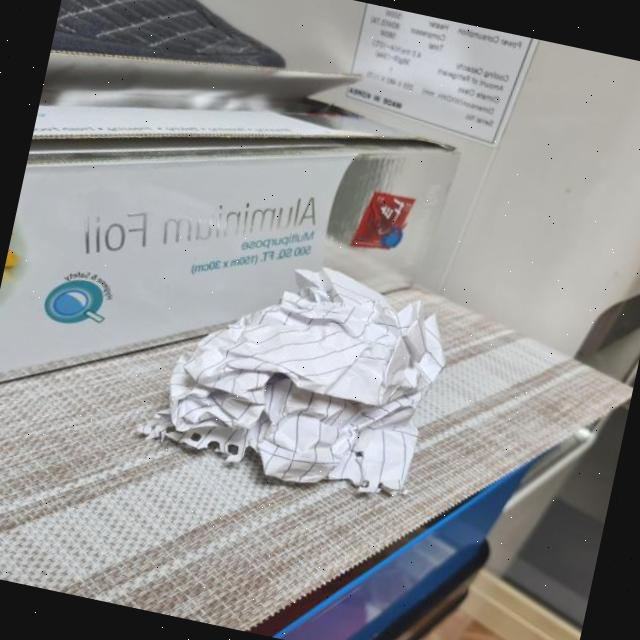trash: (141, 232, 457, 508)
